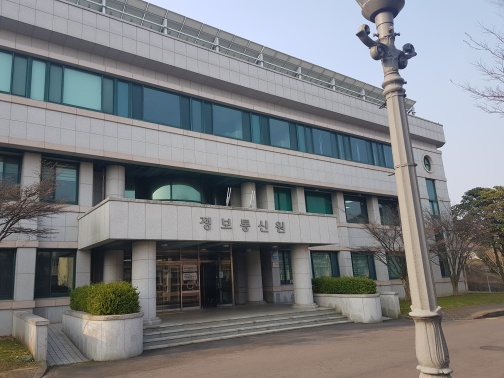Information Telecommunication Center: (1, 2, 468, 334), (78, 187, 382, 344), (139, 250, 324, 322), (177, 202, 300, 242)
